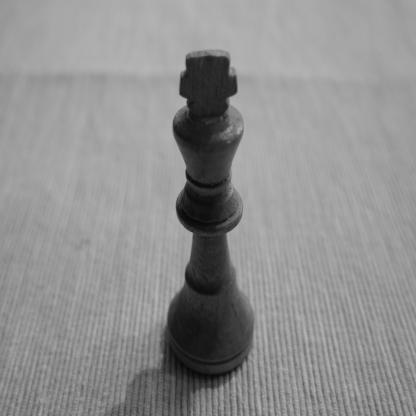white-king: (167, 48, 255, 377)
